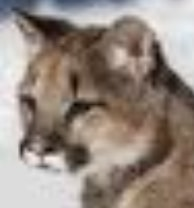Mountain Lion: (13, 7, 193, 207)
